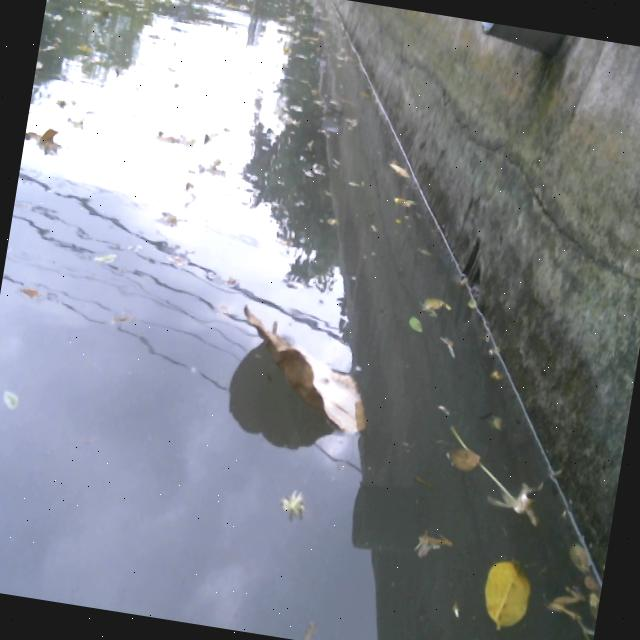Big-leaf: (219, 297, 391, 447)
Small-leaf: (470, 550, 544, 639), (439, 440, 497, 479), (562, 533, 596, 576), (418, 289, 453, 323), (0, 382, 37, 412), (84, 245, 124, 269), (577, 563, 605, 592), (402, 310, 429, 336), (388, 156, 414, 183), (581, 586, 601, 618)
